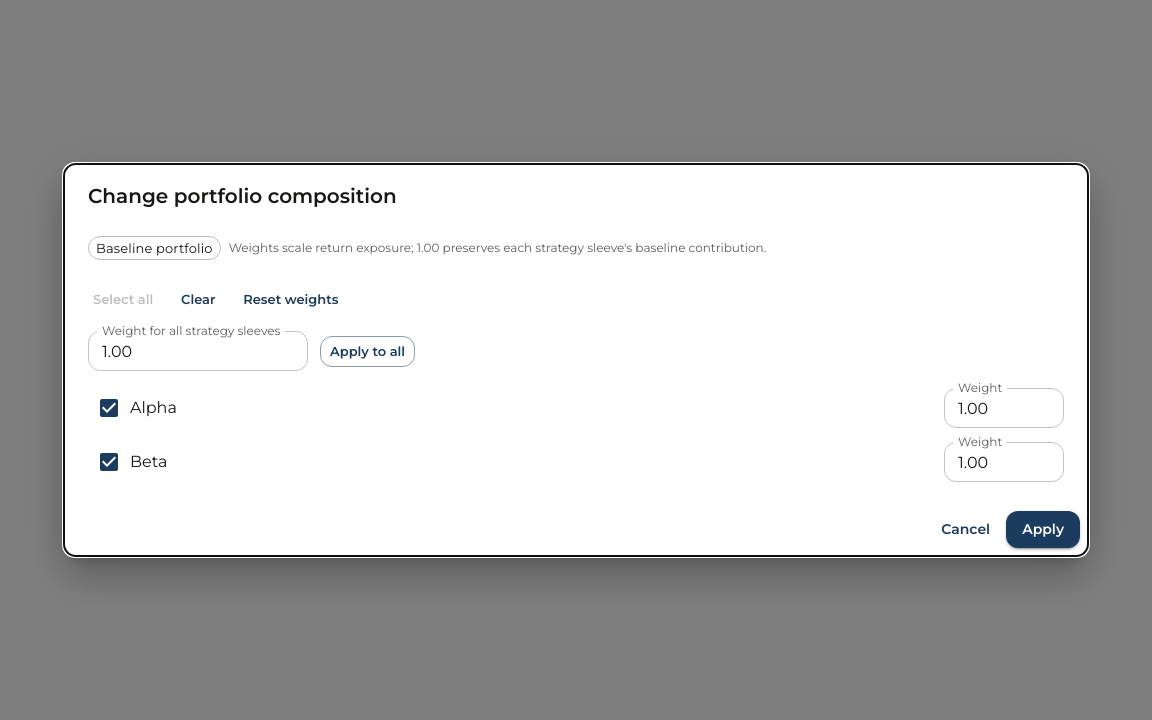
Test: portfolio presentation components › updates composition status without inserting a new layout block
This screenshot has width=1152, height=720.
Expected: the text "Baseline portfolio" is shown, [89,239,220,258]
Replace the text in the field labelled "Weight" in the row of "Alpha" with "1.25" at coordinates (1004, 408), box [944,388,1064,428]
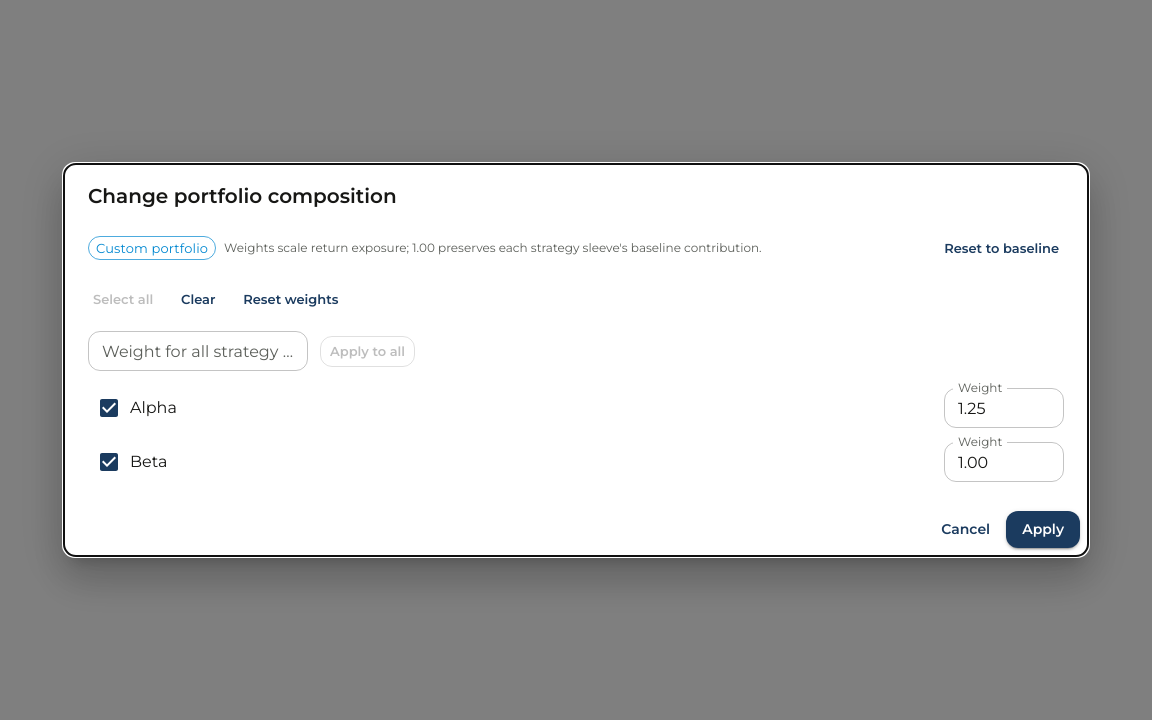
Result: the text "Custom portfolio" is shown at [89,239,215,258]
Result: the button "Reset to baseline" is shown at [939,233,1064,264]
